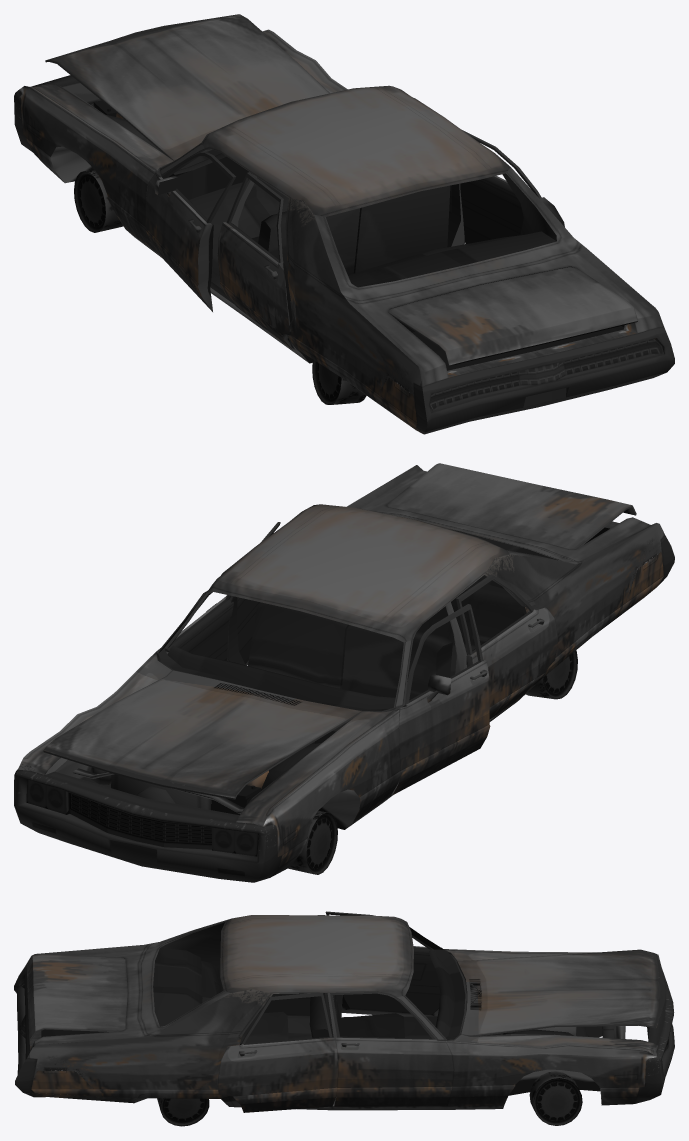
File: Vehicle_en71_NewYorker_Burned.fbx
The picture shows the model from 3 angles, top to bottom: view 1: azimuth 30°, elevation 25°; view 2: azimuth 150°, elevation 25°; view 3: azimuth 270°, elevation 25°; orthographic projection. The views are drawn at different scales.
Visible parts, largest first — view 1: Body; view 2: Body; view 3: Body.
Part boxes in pixels (left/top/right/bottom): Body: left=14, top=14, right=674, bottom=434; Body: left=14, top=463, right=674, bottom=882; Body: left=14, top=911, right=674, bottom=1126.
Size of the model in its own units: 461 by 267 by 1142.
